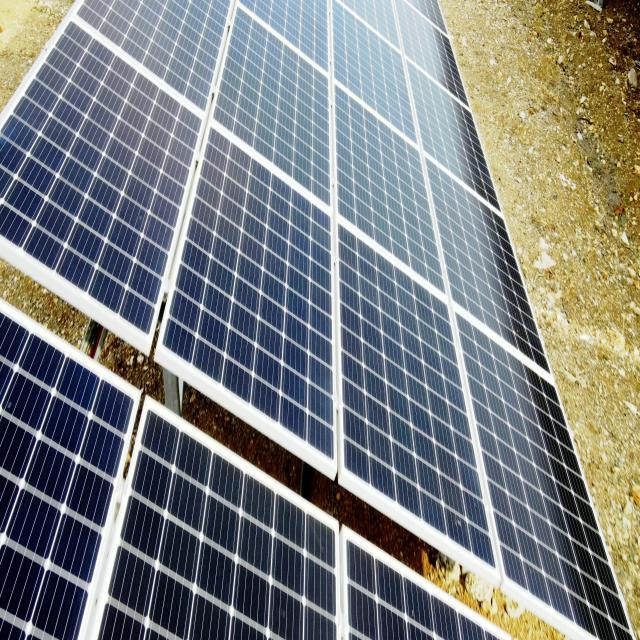no faulty: (158, 118, 340, 474), (333, 217, 503, 581), (92, 393, 338, 640), (450, 305, 630, 638), (2, 13, 182, 330), (0, 302, 144, 640), (425, 154, 551, 382), (328, 86, 446, 302), (210, 5, 332, 208), (344, 535, 510, 640), (333, 4, 418, 138)
